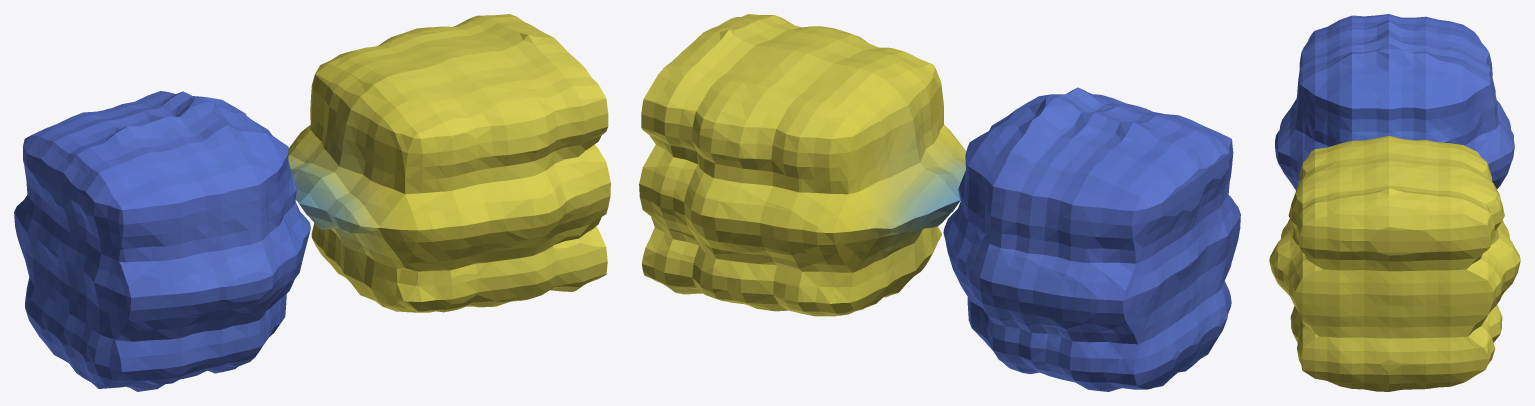
3 renders of one model, left to right at view 1: azimuth 30°, elevation 25°; view 2: azimuth 150°, elevation 25°; view 3: azimuth 270°, elevation 25°, orthographic. The views are drawn at different scales.
Parts seen in each view (by area): view 1: geometry_0; view 2: geometry_0; view 3: geometry_0.
Part boxes in pixels (box(x1,y1,x2,y2)): geometry_0: box(14, 14, 610, 391); geometry_0: box(639, 14, 1240, 391); geometry_0: box(1269, 14, 1520, 391).
Size of the model in its own units: 1.67 by 0.8057 by 0.8679.
